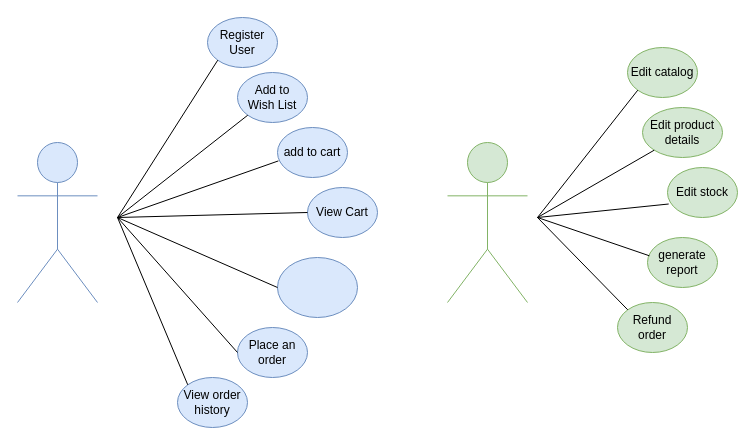
The diagram is 755 pixels wide and 445 high, and some of its shapes have lost their labels. Here are the shapes that lost their labels. From the top down, the centre of each, then its label:
At (57,222): "Customer".
At (487,222): "Administrator".
At (317,287): "Remove Product from cart".
